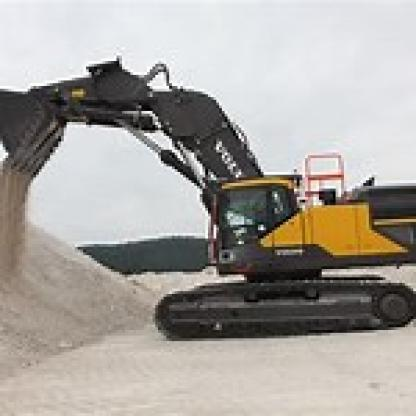excavator: (3, 47, 413, 369)
